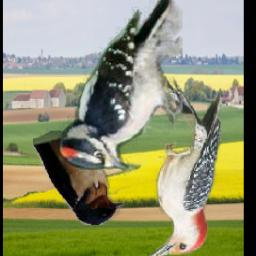Swallow: (33, 124, 125, 226)
Woodpecker: (56, 0, 182, 176), (144, 76, 220, 256)
